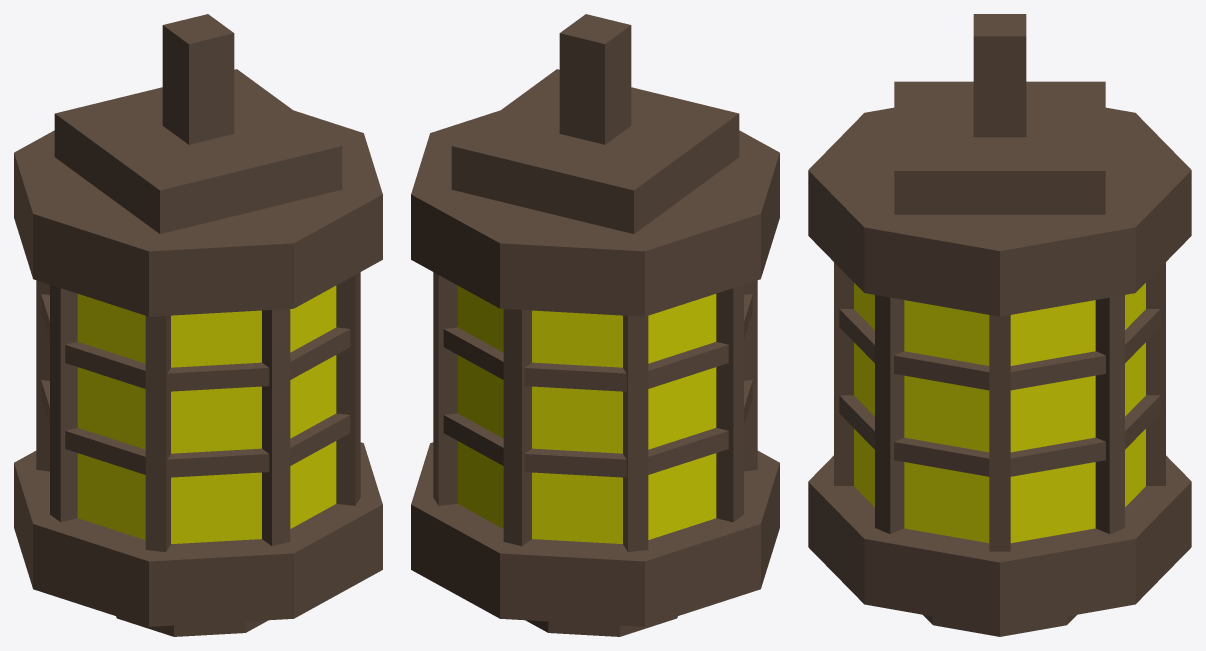
The model's file is Fanarik.fbx.
3 views of the same model, side by side, from view 1: azimuth 30°, elevation 25°; view 2: azimuth 150°, elevation 25°; view 3: azimuth 270°, elevation 25° (orthographic).
Parts seen in each view (by area): view 1: pCylinder36; view 2: pCylinder36; view 3: pCylinder36.
Part boxes in pixels (x1,y1,x2,y2): pCylinder36: [14, 14, 382, 636]; pCylinder36: [411, 14, 779, 636]; pCylinder36: [808, 14, 1191, 636].
Bounding box in the file's own units: 17.45 × 28.71 × 17.45.
